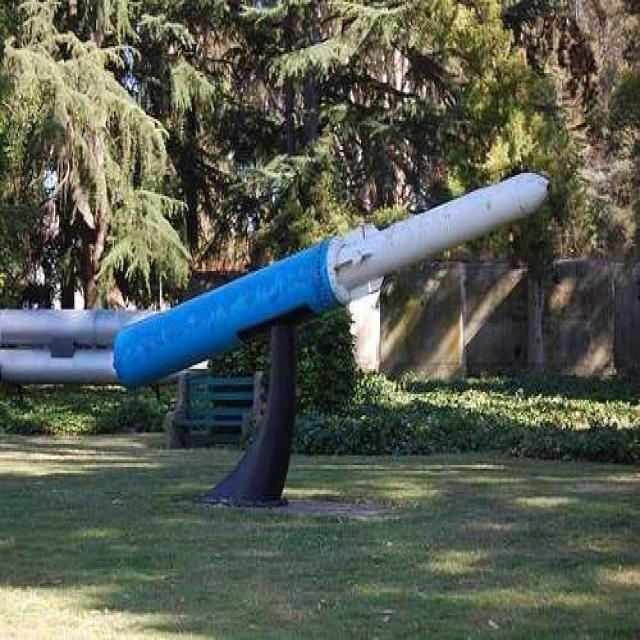missile: (106, 168, 563, 396)
